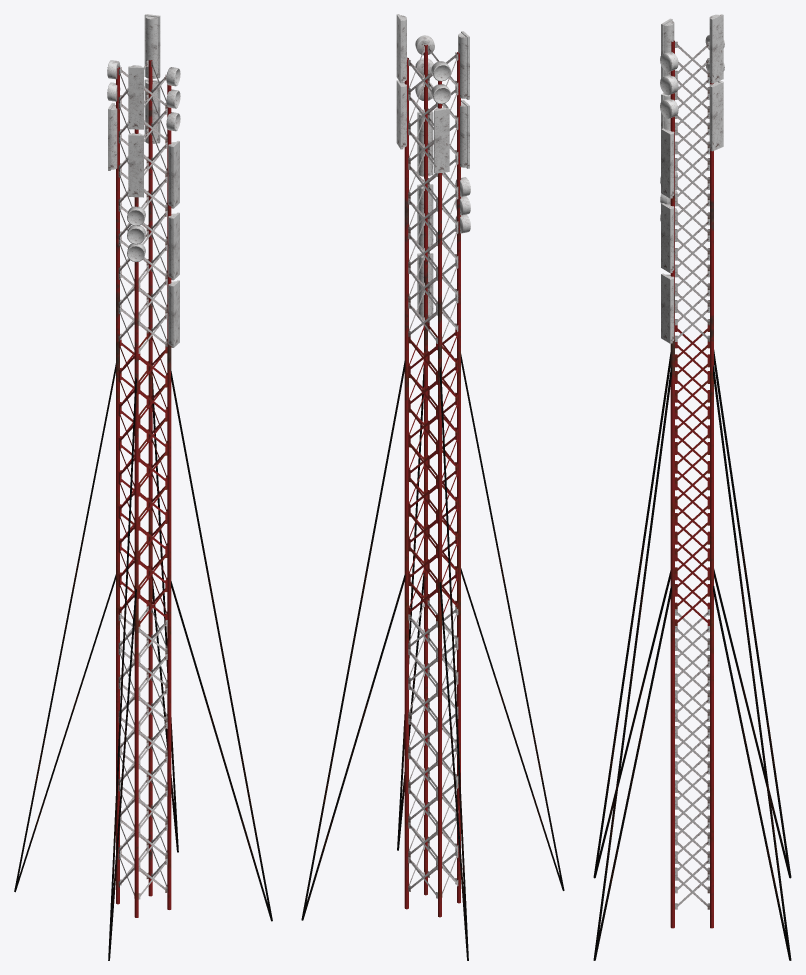
The model's file is torre.glb.
3 renders of one model, left to right at view 1: azimuth 30°, elevation 25°; view 2: azimuth 150°, elevation 25°; view 3: azimuth 270°, elevation 25°, orthographic. The views are drawn at different scales.
Parts seen in each view (by area): view 1: Object_10; view 2: Object_10; view 3: Object_10.
Part boxes in pixels (<box>): Object_10: <box>14,14,272,960</box>; Object_10: <box>301,14,564,960</box>; Object_10: <box>593,14,791,960</box>.
Size of the model in its own units: 0.1965 by 1 by 0.1965.
Materials: 1 (1 with a texture image).
